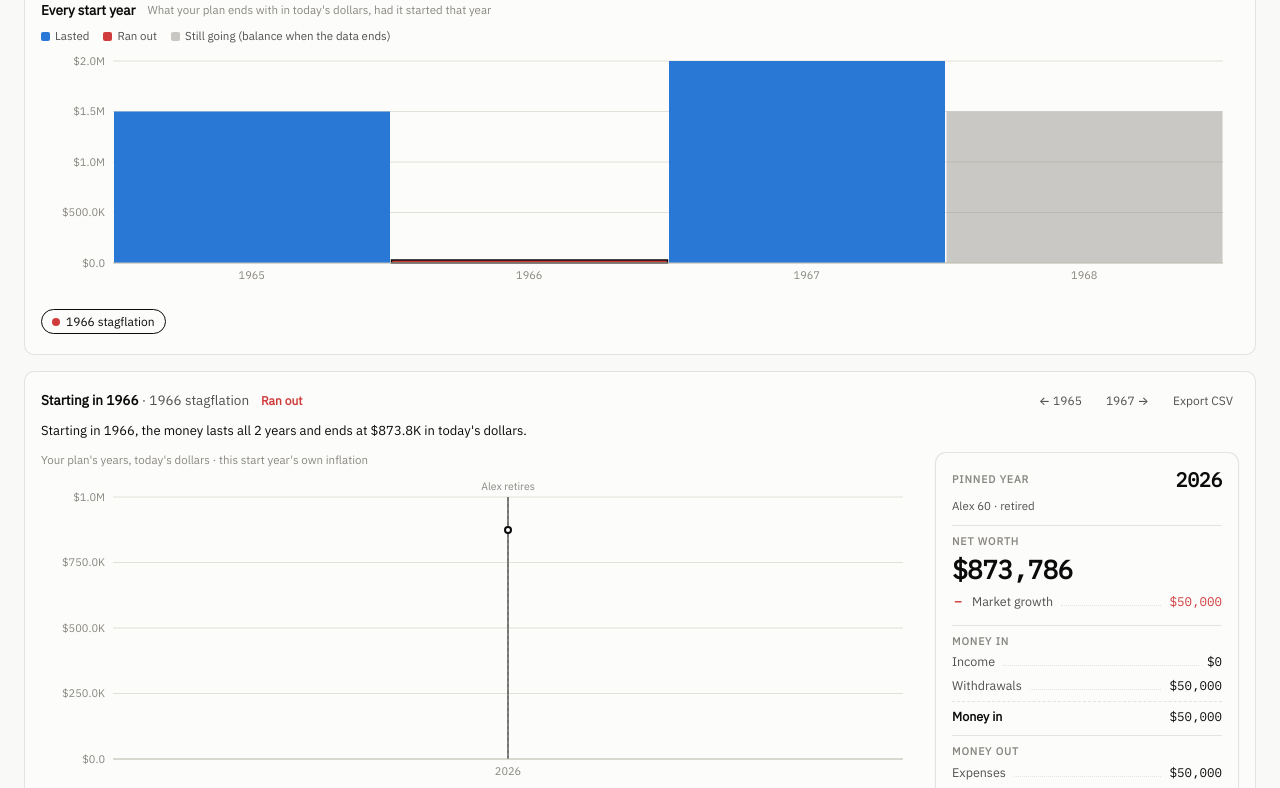
Test: the History screen › opens the worst start year first, and another on request
(page scrolled)
Click the button named "Next start year" at (1127, 401), box [1100,388,1155,414]
(page scrolled)
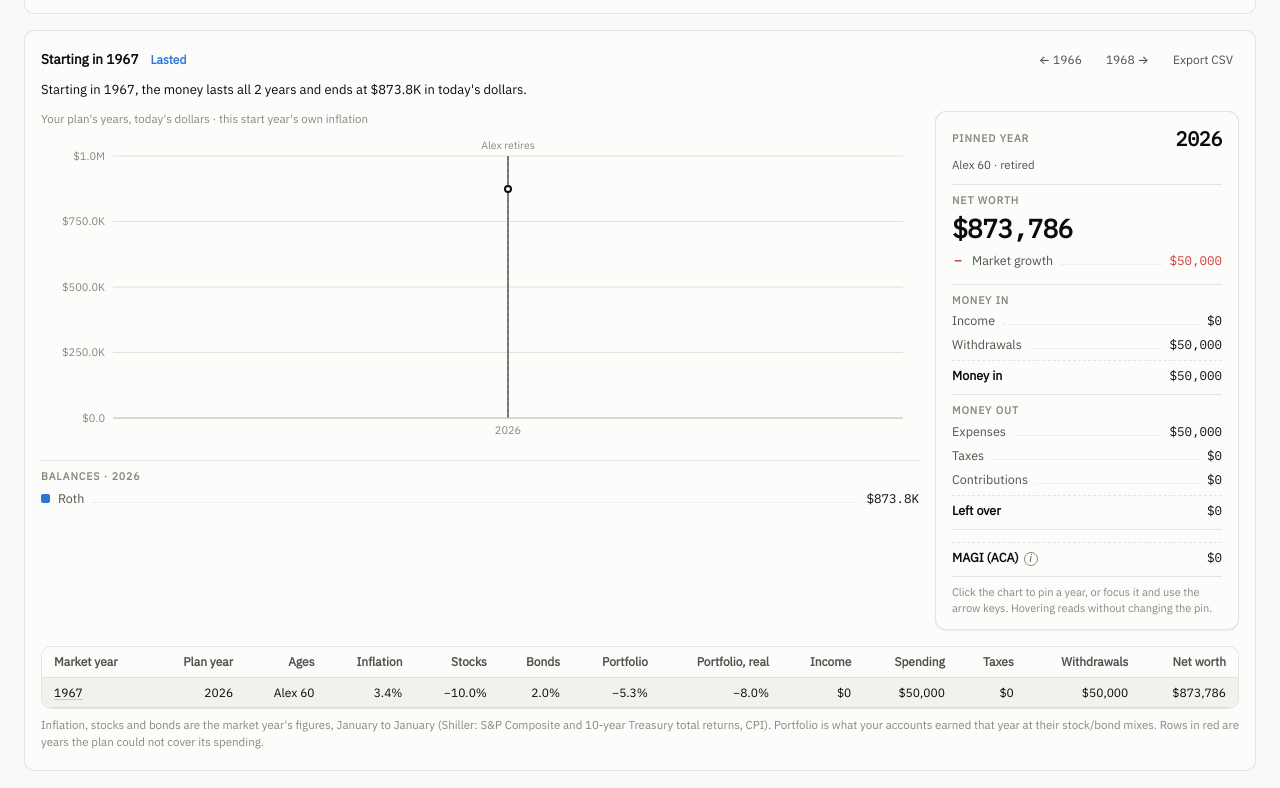
Expected: the element "Starting in 1967" is shown
